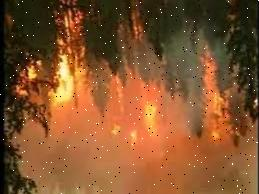fire: (101, 102, 161, 152), (47, 46, 76, 112), (204, 84, 226, 144)
